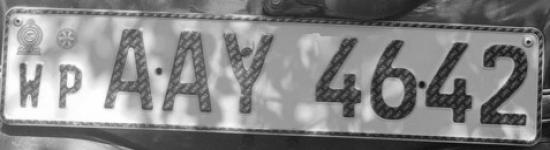2: (479, 38, 531, 132)
4: (306, 30, 368, 120), (423, 36, 477, 133)
6: (367, 35, 422, 125)
A: (98, 25, 158, 116), (161, 26, 218, 118)
P: (52, 61, 87, 110)
W: (11, 59, 49, 108)
Y: (217, 26, 283, 120)
